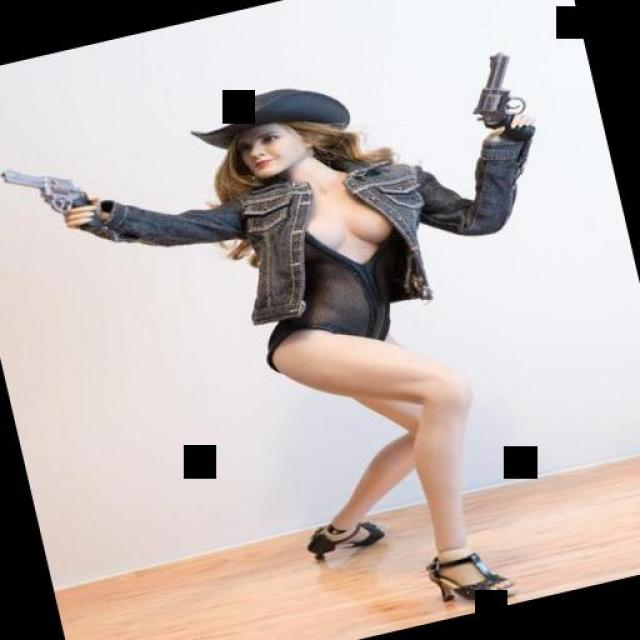gun: (0, 146, 99, 232), (455, 45, 535, 139)
